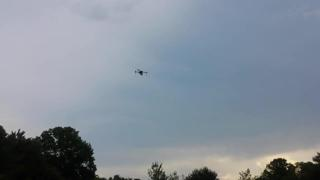UAV: (135, 70, 148, 78)
